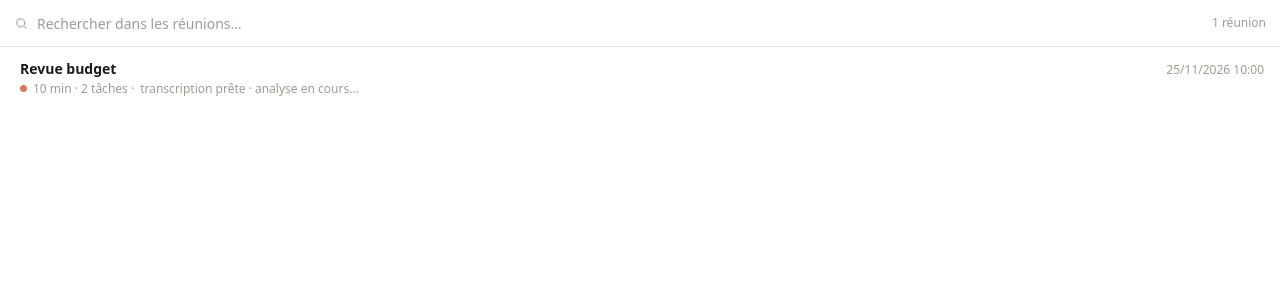
Scenario: analysis button and state (regression: « no button to analyze ») › while running: state visible, disabled button, step n/N
Click the text "Revue budget" at (68, 68), box [20, 59, 116, 78]
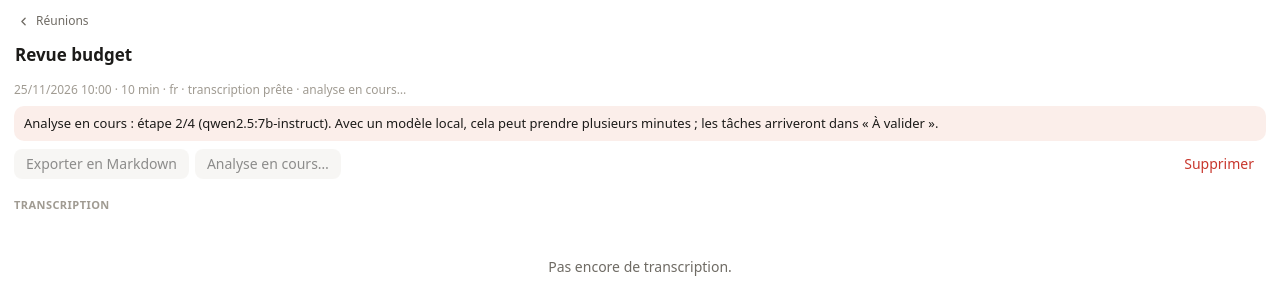
Result: the button "Analyse en cours…" is disabled at [195, 149, 341, 179]
Result: the text "étape 2/4" is shown at [127, 114, 195, 132]
Result: the text "analyse en cours" is shown at [293, 81, 406, 98]
